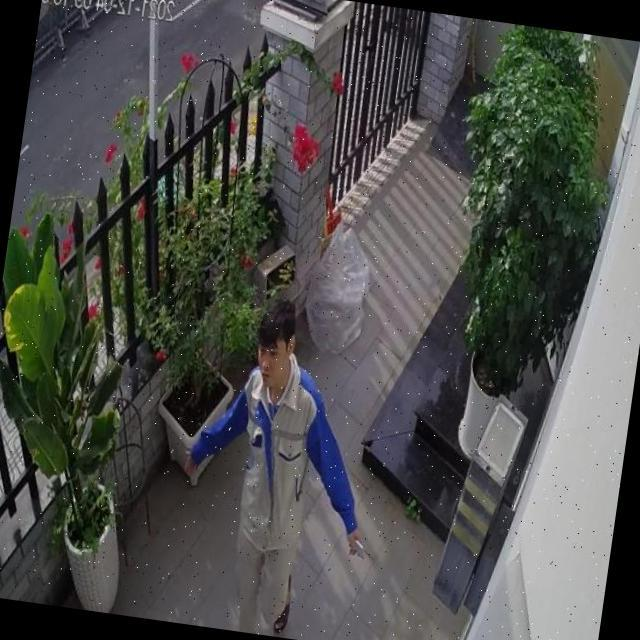person: (166, 282, 388, 640)
